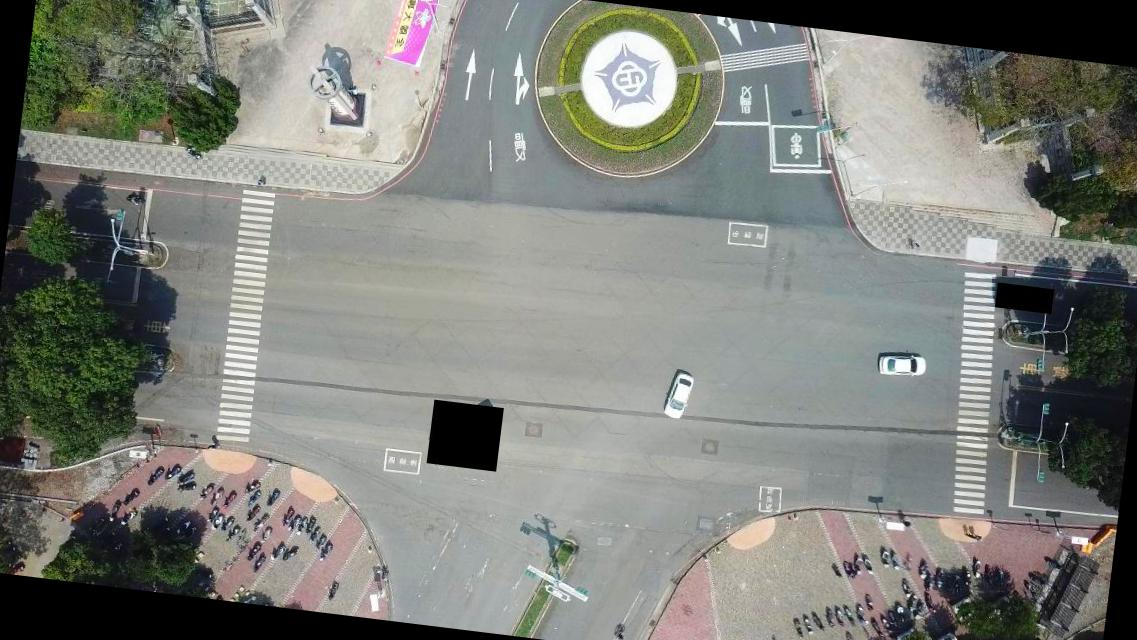vehicle: (660, 368, 694, 422), (875, 349, 928, 381)
